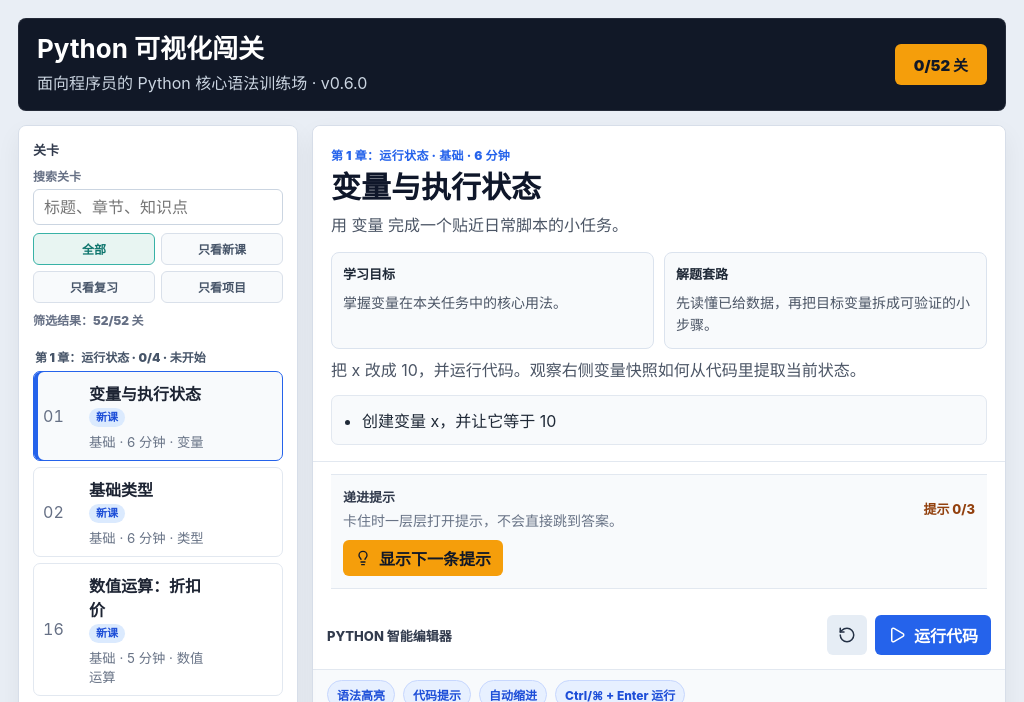
Python beginner app › shows failed check hints and marks level as attempted
Click the button "运行代码" at x=933, y=635, box [875, 615, 991, 655]
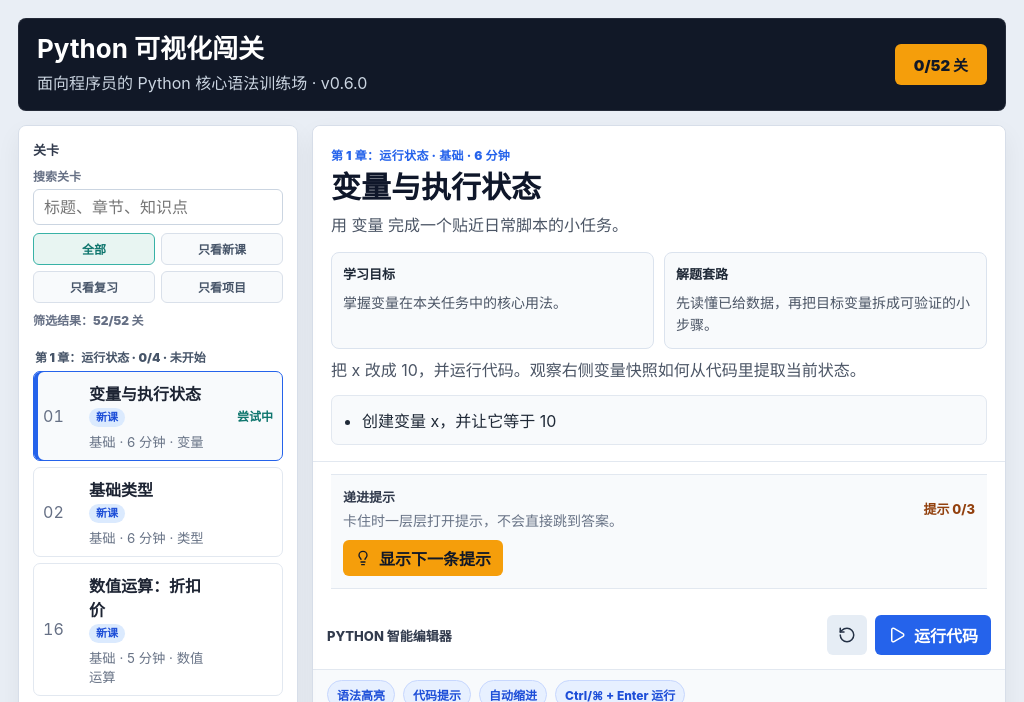
Result: the text "尝试中" is shown at [237, 409, 273, 424]
